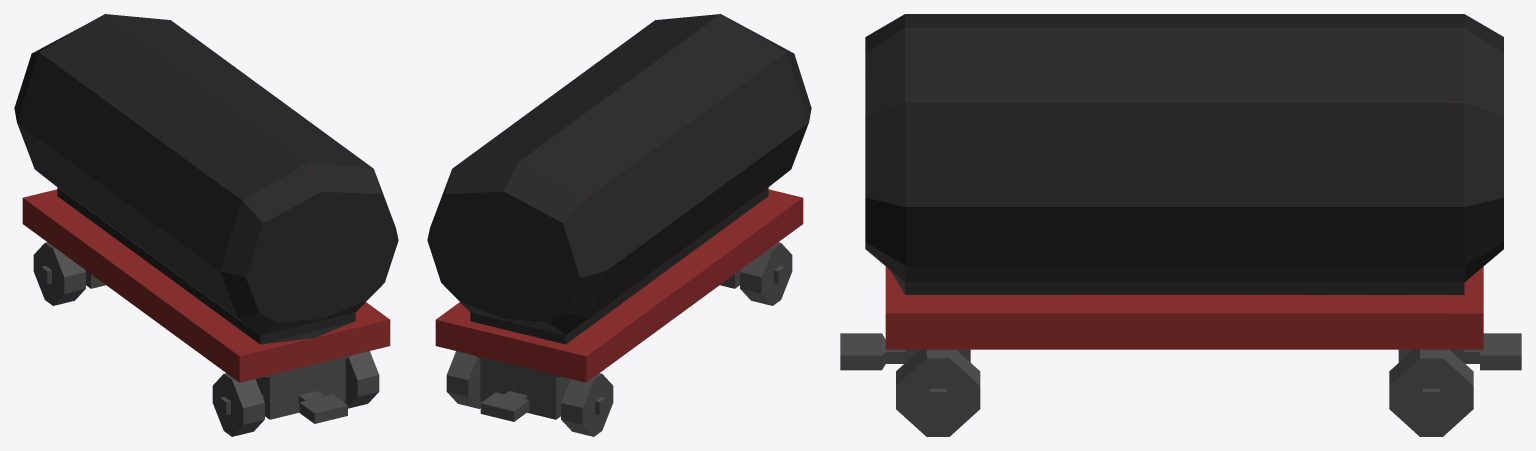
The model's file is Train_Car_2.glb.
3 renders of one model, left to right at view 1: azimuth 30°, elevation 25°; view 2: azimuth 150°, elevation 25°; view 3: azimuth 270°, elevation 25°, orthographic. The views are drawn at different scales.
Visible parts, largest first — view 1: Train_Car_2; view 2: Train_Car_2; view 3: Train_Car_2.
Part boxes in pixels (x1,y1,x2,y2): Train_Car_2: (14, 14, 398, 436); Train_Car_2: (427, 14, 811, 436); Train_Car_2: (840, 14, 1521, 436).
Bounding box in the file's own units: 2.58 × 3.68 × 6.25.
1 material, 1 textured.
